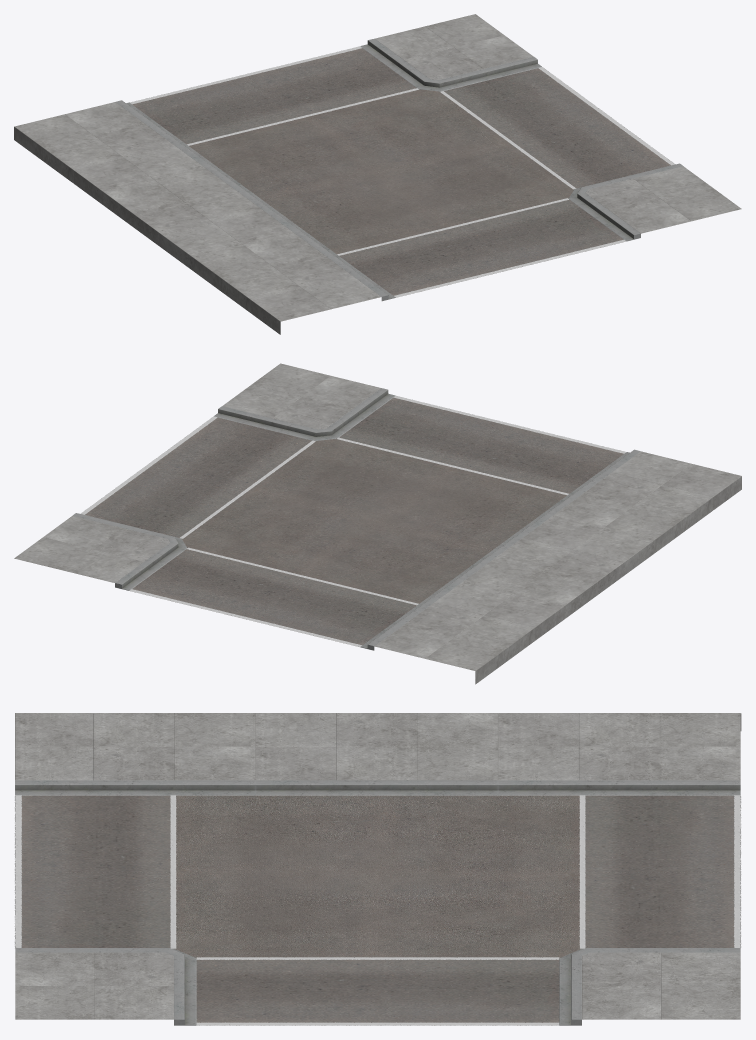
The model's file is Intersection_T_2x2_lane.fbx.
3 renders of one model, top to bottom at view 1: azimuth 30°, elevation 25°; view 2: azimuth 150°, elevation 25°; view 3: azimuth 270°, elevation 25°, orthographic. The views are drawn at different scales.
Visible parts, largest first — view 1: Intersection_T_2x2_lane; view 2: Intersection_T_2x2_lane; view 3: Intersection_T_2x2_lane.
Boxes of the visible parts, left/top/right/bottom form: Intersection_T_2x2_lane: left=14, top=14, right=741, bottom=334; Intersection_T_2x2_lane: left=14, top=363, right=741, bottom=684; Intersection_T_2x2_lane: left=14, top=713, right=741, bottom=1025.
Bounding box in the file's own units: 1603 × 44.86 × 1605.
